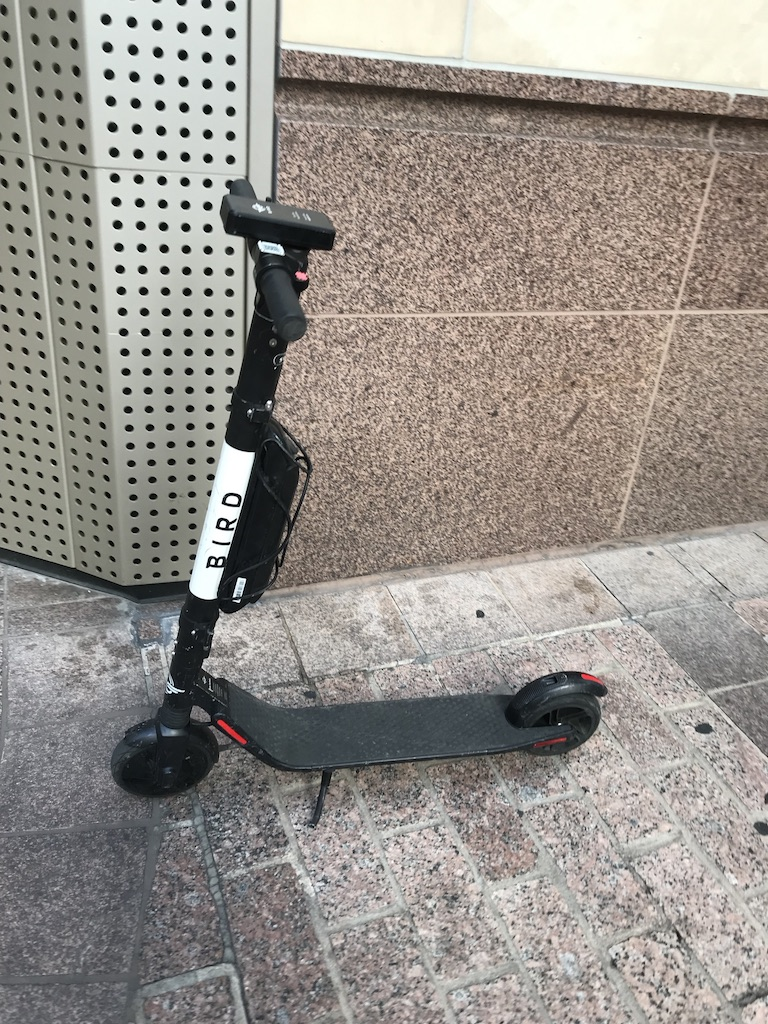scooter: (111, 179, 610, 800)
